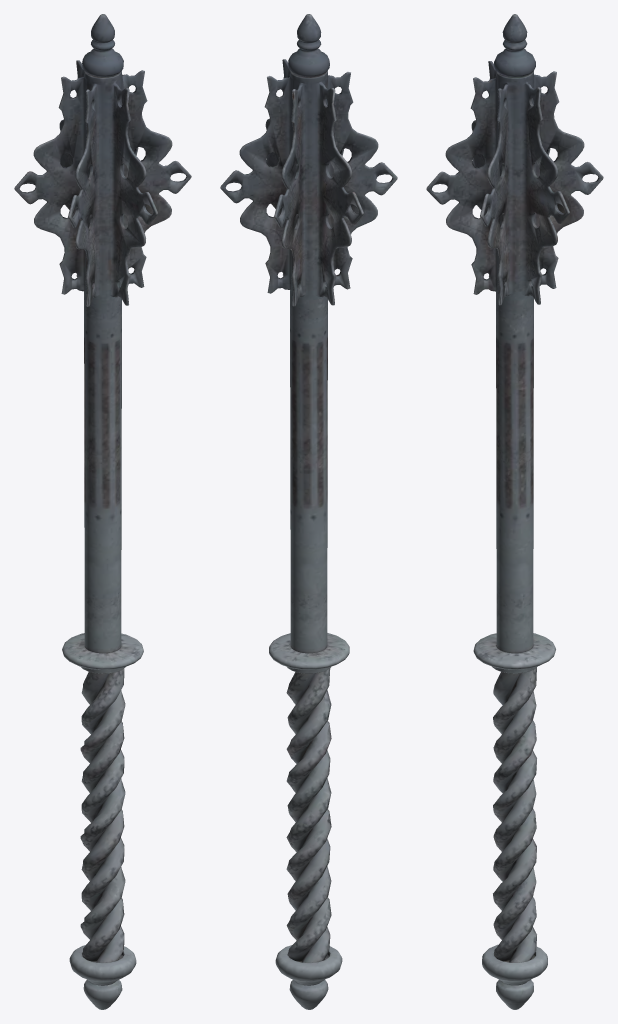
File: ornate_medieval_mace.glb
The picture shows the model from 3 angles, left to right: view 1: azimuth 30°, elevation 25°; view 2: azimuth 150°, elevation 25°; view 3: azimuth 270°, elevation 25°; orthographic projection.
Parts seen in each view (by area): view 1: ornate_medieval_mace; view 2: ornate_medieval_mace; view 3: ornate_medieval_mace.
Part boxes in pixels (x1=…): ornate_medieval_mace: x1=14, y1=14, x2=191, y2=1009; ornate_medieval_mace: x1=220, y1=14, x2=397, y2=1009; ornate_medieval_mace: x1=426, y1=14, x2=603, y2=1009.
Bounding box in the file's own units: 0.0949 × 0.63 × 0.1017.
Materials: 1 (1 with a texture image).
